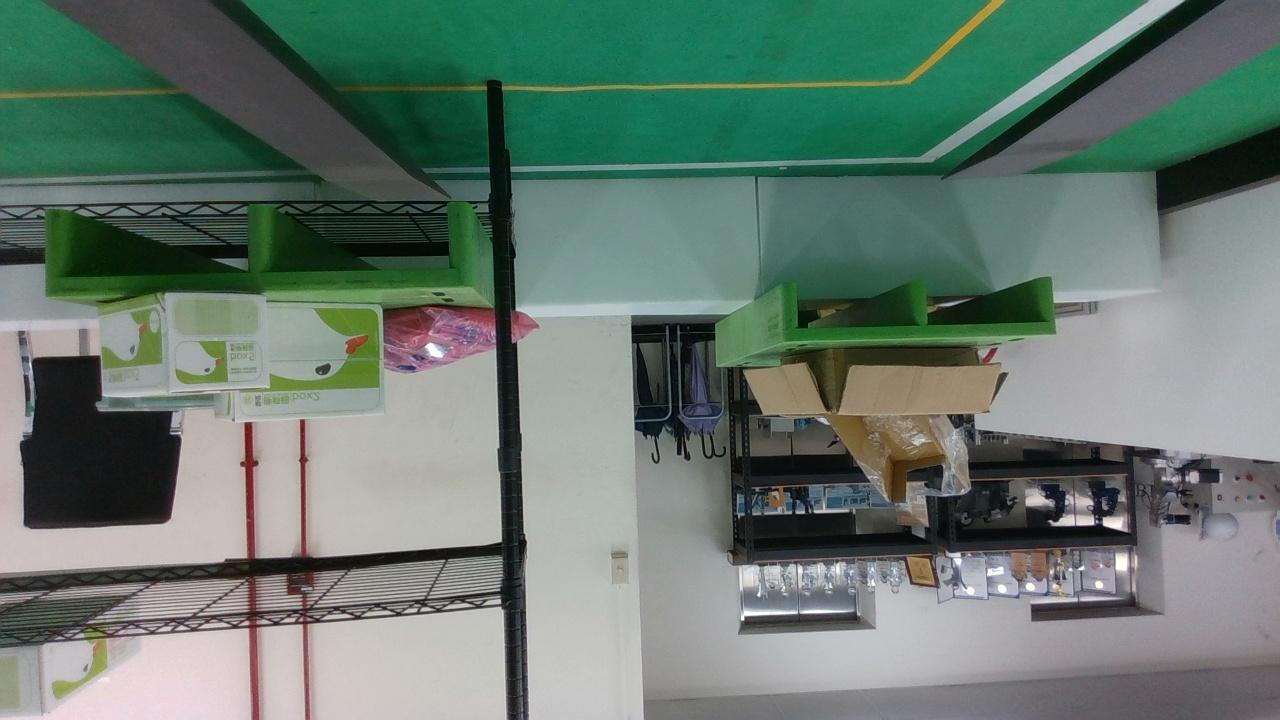Pallet: (43, 203, 476, 300), (781, 275, 1055, 343)
